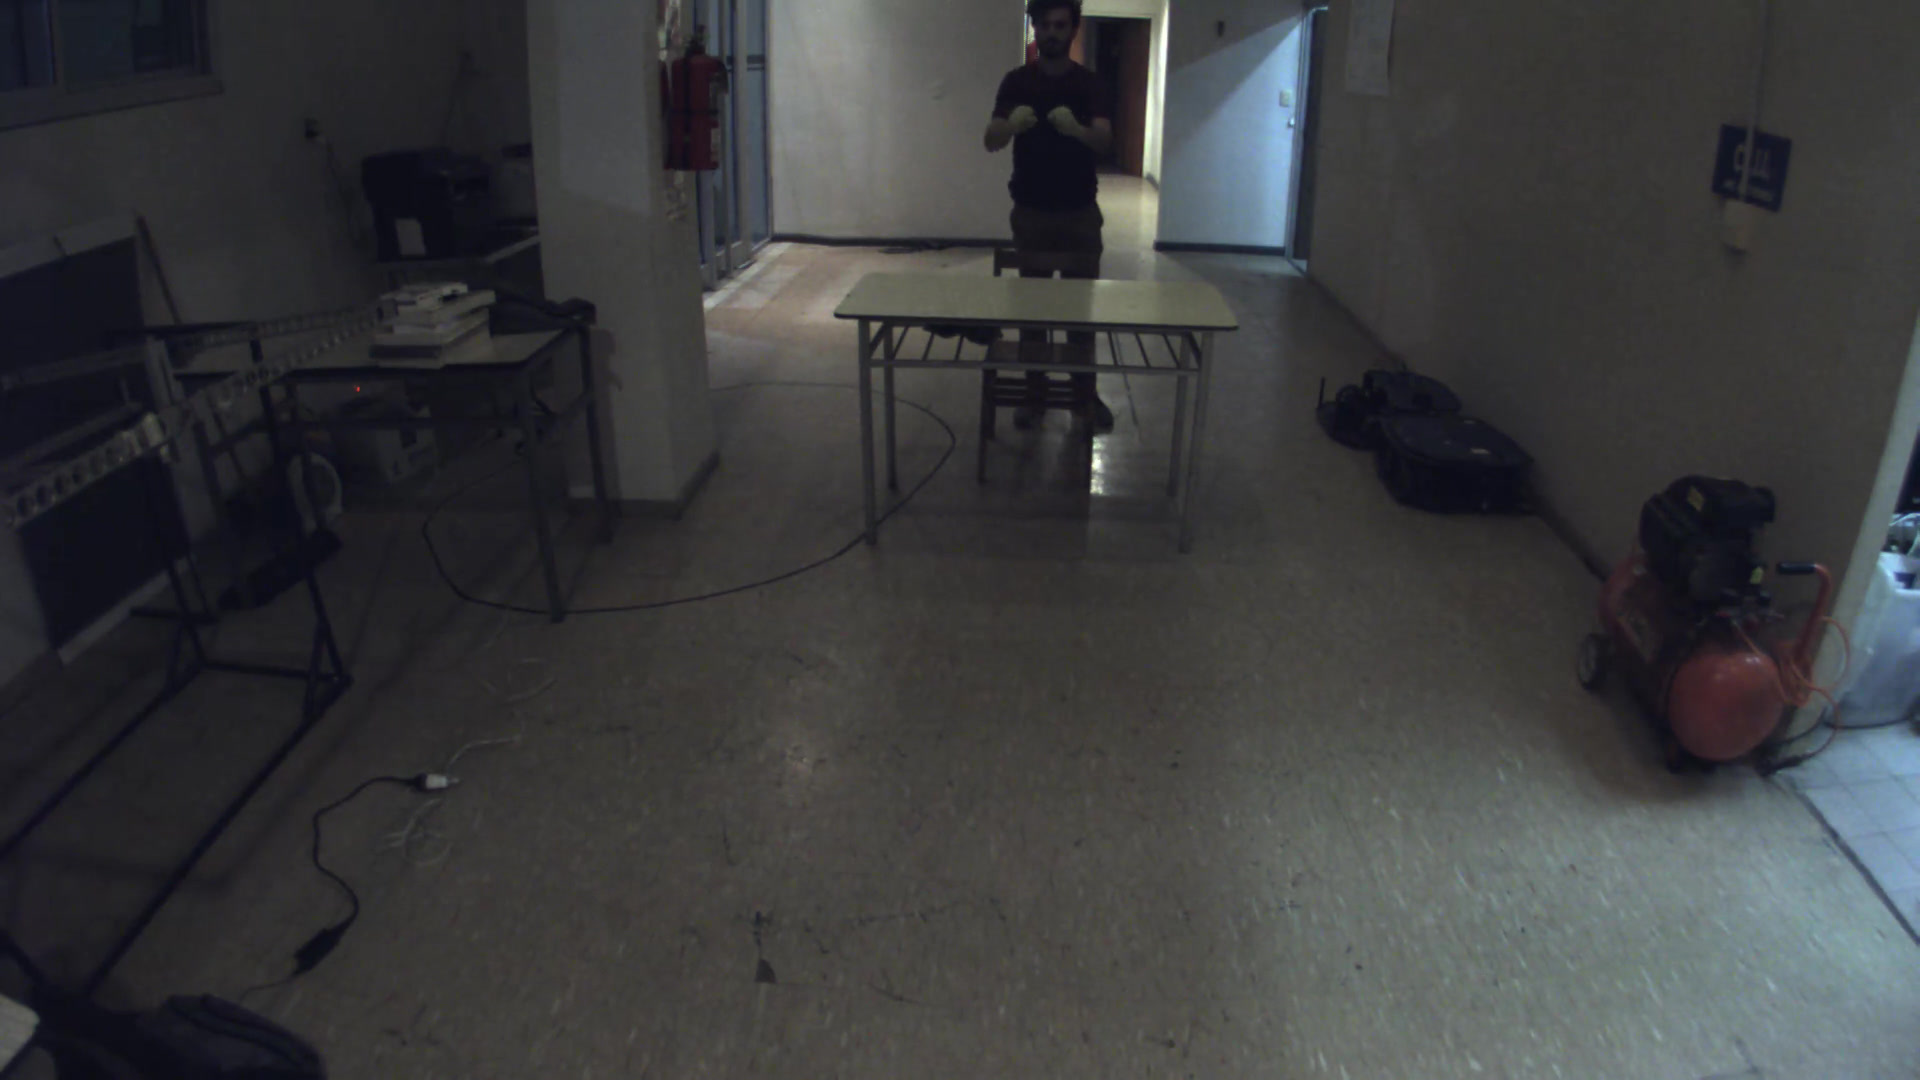hand: (996, 96, 1040, 140), (1046, 96, 1085, 136)
